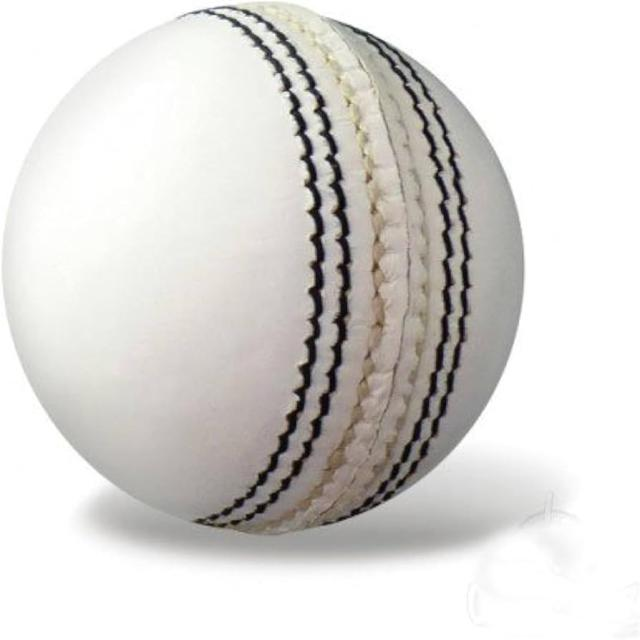ball: (2, 1, 530, 547)
